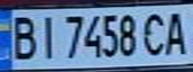4: (81, 11, 103, 60)
5: (100, 11, 121, 58)
7: (60, 11, 84, 60)
8: (118, 10, 142, 57)
A: (160, 8, 193, 56)
B: (3, 11, 42, 61)
C: (139, 9, 169, 57)
I: (33, 11, 60, 60)
